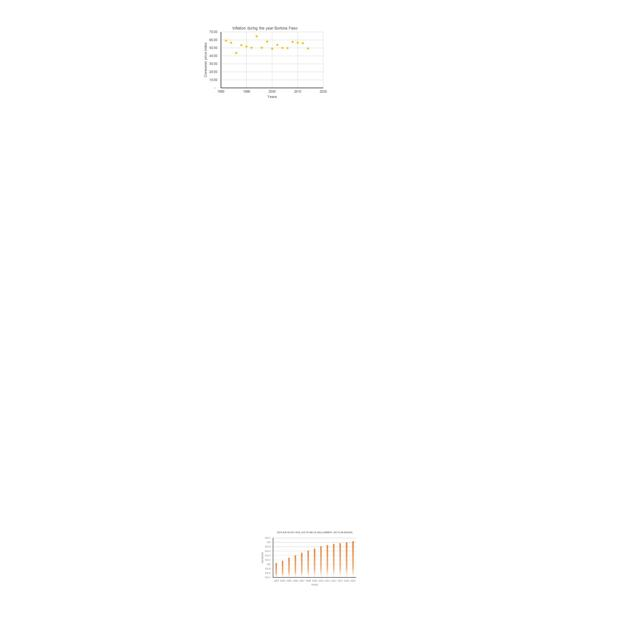Graph: (202, 25, 328, 99), (258, 529, 358, 588)
